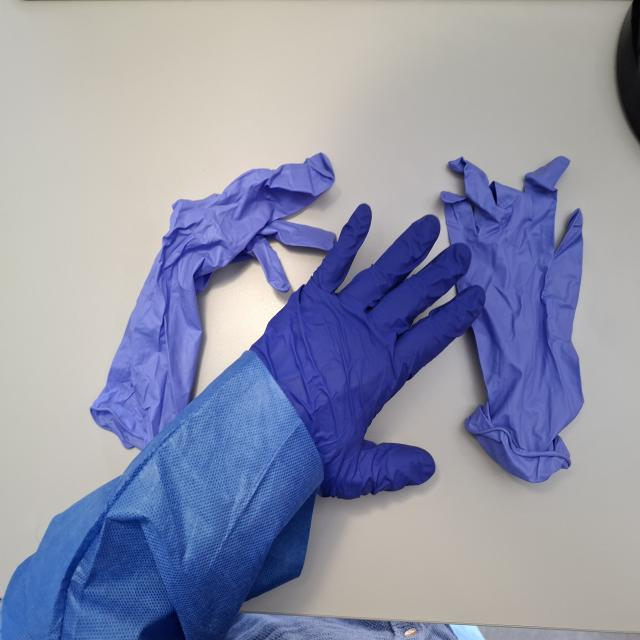glove_on: (249, 200, 489, 502)
